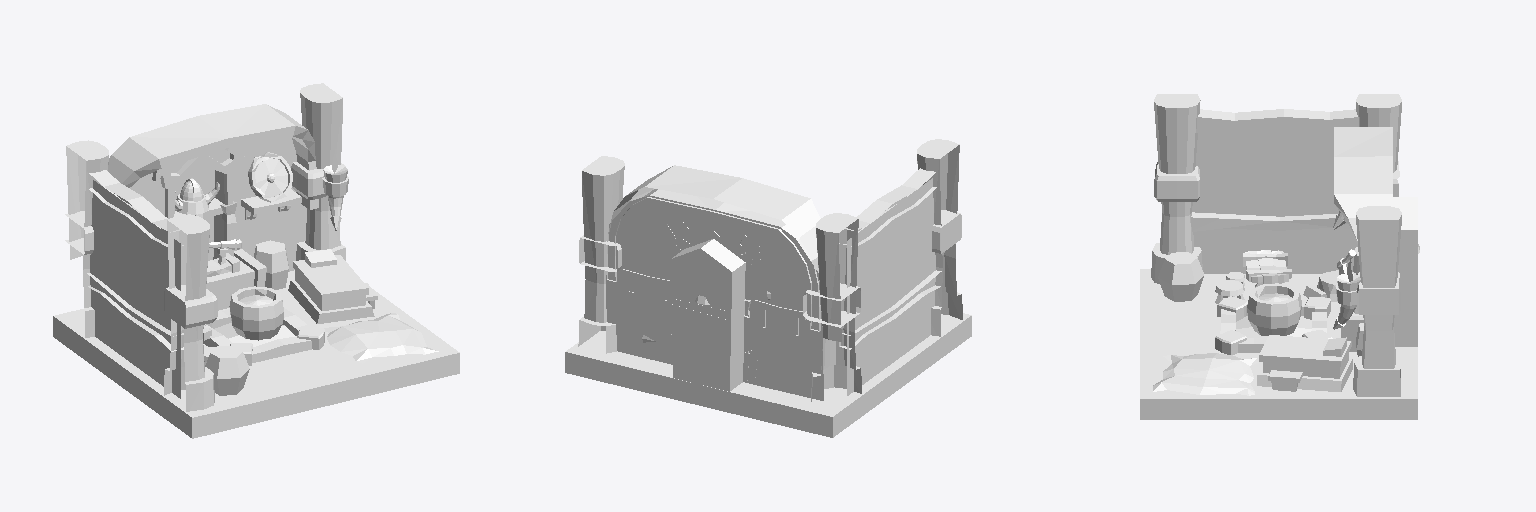
Rendered from vikingroom.obj.
3 views of the same model, side by side, from view 1: azimuth 30°, elevation 25°; view 2: azimuth 150°, elevation 25°; view 3: azimuth 270°, elevation 25° (orthographic).
Visible parts, largest first — view 1: mesh_all1.001_Mesh.001; view 2: mesh_all1.001_Mesh.001; view 3: mesh_all1.001_Mesh.001.
Part boxes in pixels (left/top/right/bottom): mesh_all1.001_Mesh.001: left=53, top=83, right=459, bottom=438; mesh_all1.001_Mesh.001: left=565, top=139, right=971, bottom=437; mesh_all1.001_Mesh.001: left=1140, top=94, right=1419, bottom=419.
Bounding box in the file's own units: 8.34 × 5.89 × 7.58.